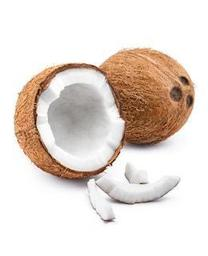coconut: (13, 63, 125, 179), (97, 48, 195, 147)
